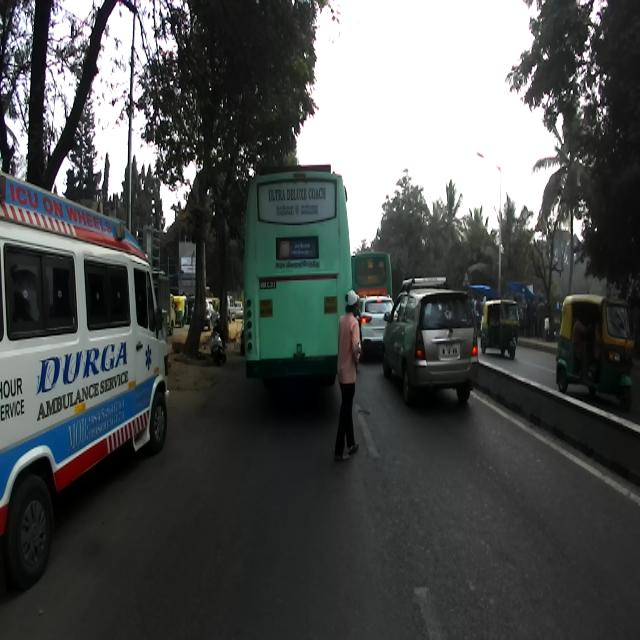auto ahead at: (552, 289, 636, 409)
bus ahead at: (0, 174, 172, 586), (243, 170, 345, 366)
car ahead at: (388, 273, 482, 410)
